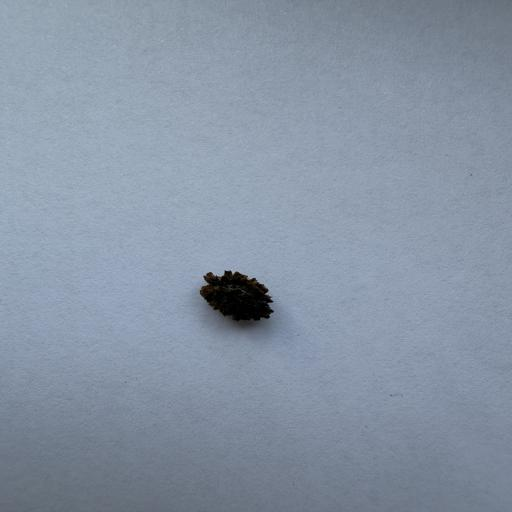papaya_seed: (193, 252, 298, 336)
